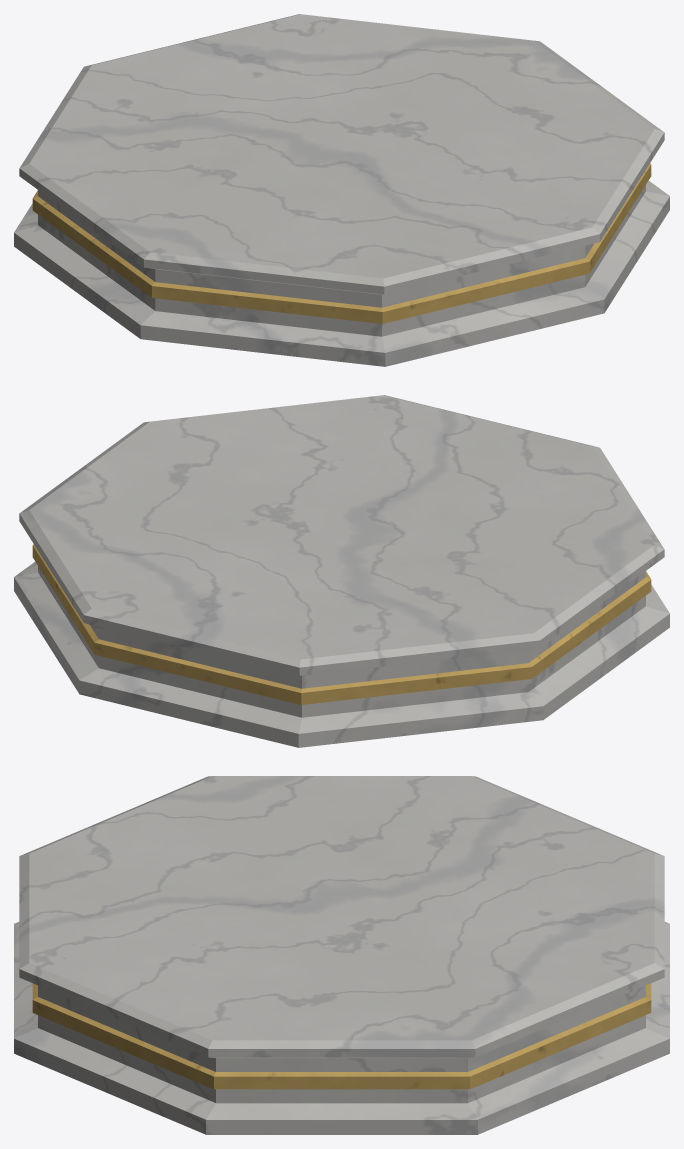
3 renders of one model, top to bottom at view 1: azimuth 30°, elevation 25°; view 2: azimuth 150°, elevation 25°; view 3: azimuth 270°, elevation 25°, orthographic. The views are drawn at different scales.
Visible parts, largest first — view 1: 받침_초월; view 2: 받침_초월; view 3: 받침_초월.
Boxes of the visible parts, x1,y1,x2,y2 form: 받침_초월: (14,14,669,366); 받침_초월: (14,395,669,747); 받침_초월: (14,776,669,1134).
Size of the model in its own units: 554 by 82 by 554.
2 materials, 2 textured.
